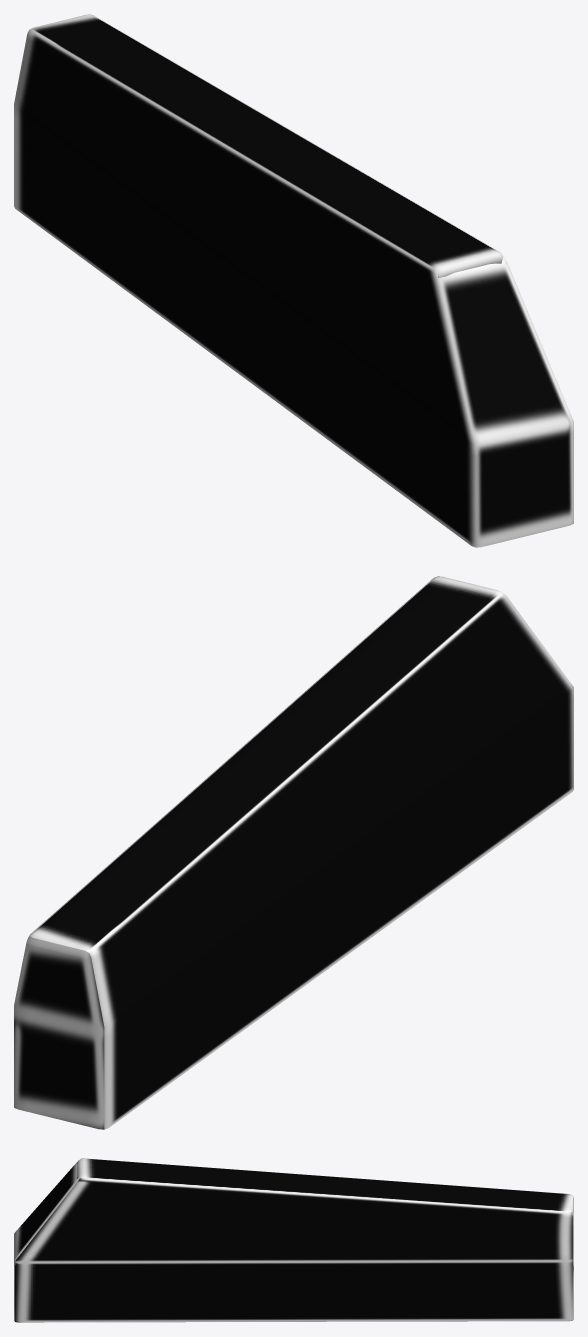
Rendered from Black_Key1.FBX.
The picture shows the model from 3 angles, top to bottom: view 1: azimuth 30°, elevation 25°; view 2: azimuth 150°, elevation 25°; view 3: azimuth 270°, elevation 25°; orthographic projection. The views are drawn at different scales.
Visible parts, largest first — view 1: B_Key_1; view 2: B_Key_1; view 3: B_Key_1.
Part boxes in pixels (x1=…): B_Key_1: x1=14, y1=14, x2=573, y2=547; B_Key_1: x1=14, y1=576, x2=573, y2=1129; B_Key_1: x1=14, y1=1158, x2=573, y2=1322.
Bounding box in the file's own units: 136 × 300 × 1086.
1 material, 1 textured.
